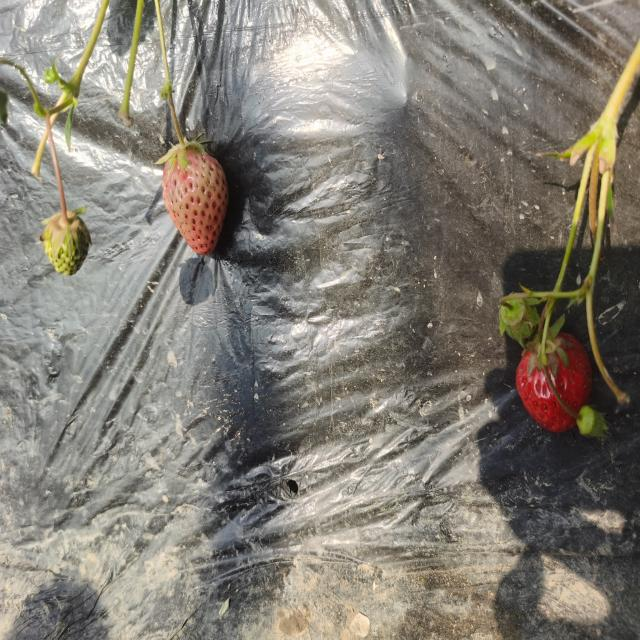stem: (172, 110, 187, 151), (538, 309, 545, 344)
strawberry: (516, 331, 593, 433), (162, 144, 229, 255)
